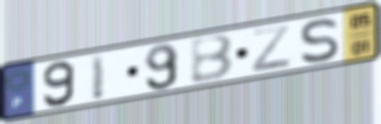9: (143, 42, 181, 92), (42, 60, 77, 109)
B: (188, 32, 236, 86)
I: (89, 52, 108, 103)
S: (299, 16, 341, 65)
Z: (249, 23, 294, 74)
